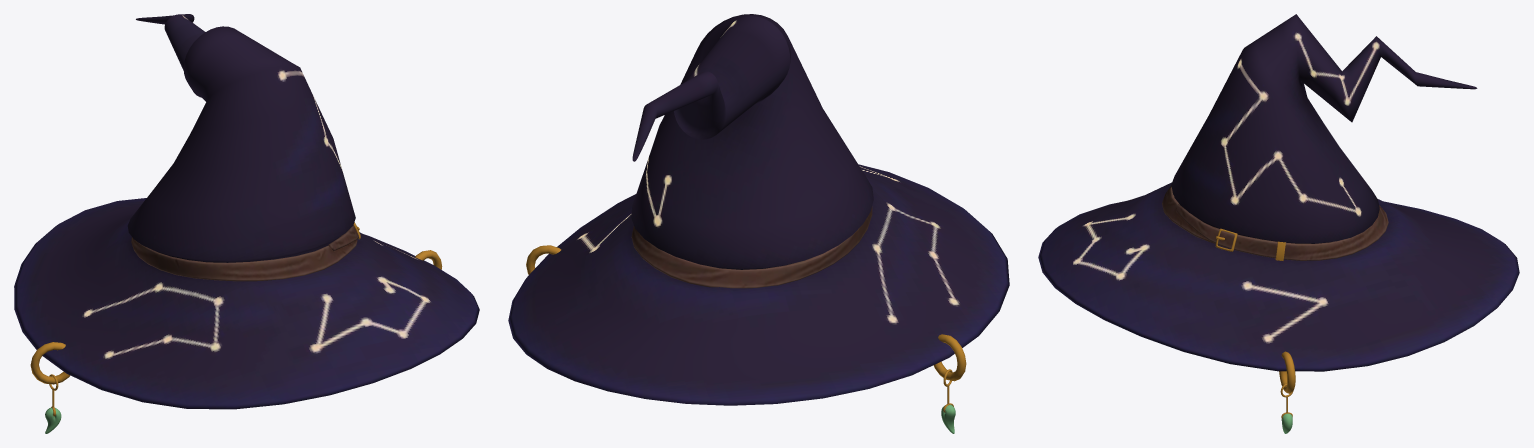
The model's file is wizard_hat.glb.
3 views of the same model, side by side, from view 1: azimuth 30°, elevation 25°; view 2: azimuth 150°, elevation 25°; view 3: azimuth 270°, elevation 25° (orthographic). The views are drawn at different scales.
Visible parts, largest first — view 1: Hat_Final_M_Wizard_Hat_0; view 2: Hat_Final_M_Wizard_Hat_0; view 3: Hat_Final_M_Wizard_Hat_0.
Boxes of the visible parts, left/top/right/bottom form: Hat_Final_M_Wizard_Hat_0: left=14, top=14, right=479, bottom=433; Hat_Final_M_Wizard_Hat_0: left=508, top=14, right=1009, bottom=433; Hat_Final_M_Wizard_Hat_0: left=1038, top=14, right=1519, bottom=433.
Size of the model in its own units: 0.0316 by 0.0264 by 0.0349.
1 material, 1 textured.
